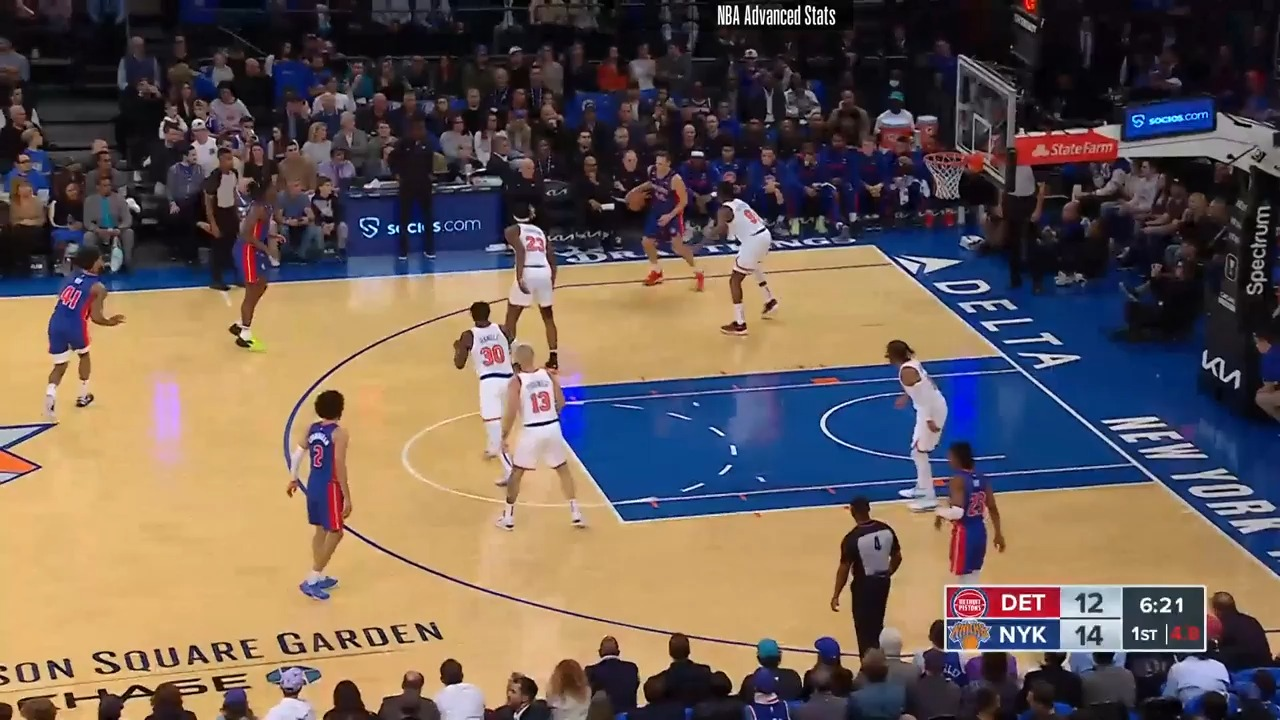net: (923, 141, 991, 201)
player: (486, 340, 593, 539), (282, 384, 370, 610), (47, 248, 128, 424), (885, 336, 958, 516), (446, 300, 513, 484), (700, 184, 778, 339), (632, 147, 715, 289), (499, 203, 567, 366), (232, 174, 292, 352), (938, 442, 1012, 586)
referee: (828, 495, 902, 658), (992, 154, 1050, 301), (204, 148, 252, 296)
